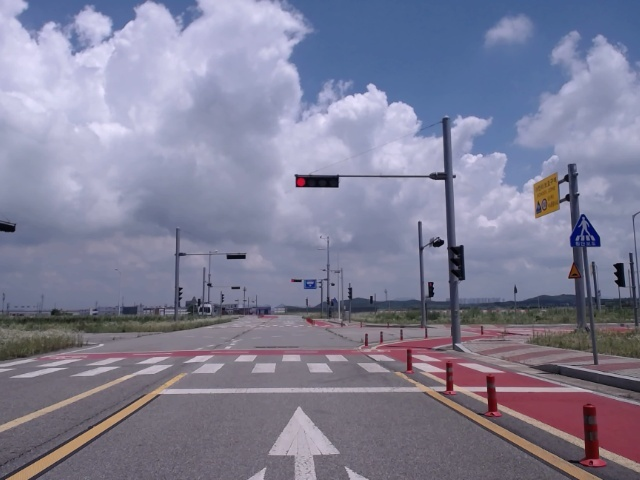red_4: (296, 176, 339, 188)
